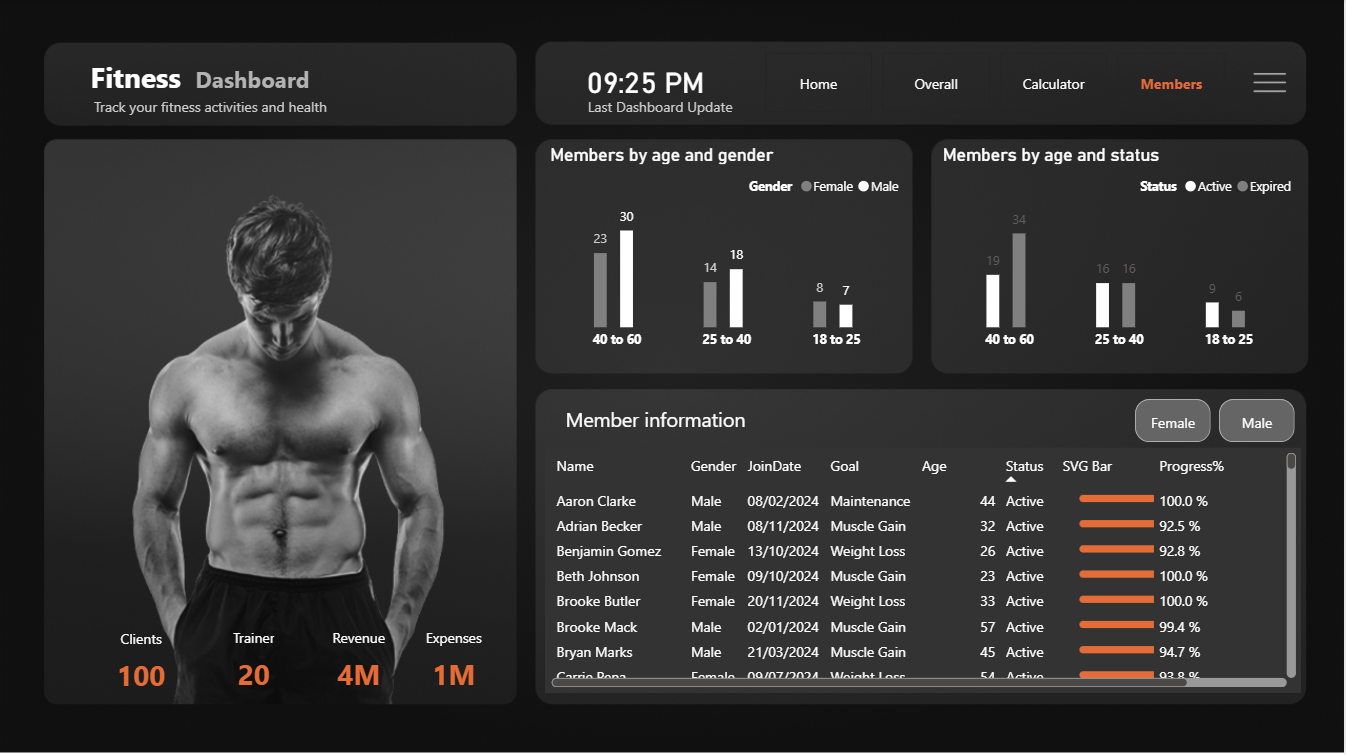

This screenshot's page, from the dashboard's own definition file:
{"tool":"powerbi","page":{"name":"Members","canvas":[1280,720],"ordinal":3},"visuals":[{"type":"pageNavigator","box":[728.6,51.2,440.5,57.1],"z":0},{"type":"card","fields":{"Values":["_measures.Last Refresh"]},"box":[502.4,36.6,225.6,82.9],"z":1000},{"type":"textbox","box":[554.9,87.8,248.8,40.2],"z":2000},{"type":"textbox","box":[167.1,57.3,140.2,41.5],"z":3000},{"type":"textbox","box":[67.1,51.2,131.7,53.7],"z":4000},{"type":"textbox","box":[84.1,87.8,248.8,40.2],"z":5000},{"type":"image","box":[1181,56,58.3,48.8],"z":6000},{"type":"tableEx","fields":{"Values":["Users.UserName","Users.Gender","Users.JoinDate","Users.Goal","Users.Age","Users.Status","_measures.SVG_BarChart","_measures.Progress Percent Display","Sum(Users.BMI)"]},"box":[519,427.4,720.2,233.3],"z":7000},{"type":"advancedSlicerVisual","fields":{"Values":["Users.Gender"]},"box":[1076.2,376.2,163.1,51.2],"z":8000},{"type":"textbox","box":[519,373.8,226.2,53.6],"z":9000},{"type":"cardVisual","fields":{"Data":["_measures.Clients"]},"box":[84.5,583.3,100,79.8],"z":10000},{"type":"cardVisual","fields":{"Data":["Count(Users.Trainer Name)"]},"box":[191.7,582.1,100,79.8],"z":11000},{"type":"cardVisual","fields":{"Data":["_measures.Revenue"]},"box":[291.6,582.3,100.1,80.8],"z":12000},{"type":"cardVisual","fields":{"Data":["_measures.Expenses"]},"box":[382.1,582.1,100,79.8],"z":13000},{"type":"clusteredColumnChart","title":"Members by age and gender","fields":{"Category":["Users.Age Category"],"Series":["Users.Gender"],"Y":["CountNonNull(Users.UserID)"]},"box":[519,138.1,346.4,204.8],"z":14000},{"type":"clusteredColumnChart","title":"Members by age and status","fields":{"Category":["Users.Age Category"],"Y":["CountNonNull(Users.UserID)"],"Series":["Users.Status"]},"box":[892.9,138.1,346.4,204.8],"z":14001}]}

Visuals, with their boxes in screenshot pixels (x1, y1, x2, y2), scaled from the page's 1280x720 canvas onto the 1346x755 screenshot:
pageNavigator: bbox=(766, 54, 1229, 114)
card - _measures.Last Refresh: bbox=(528, 38, 766, 125)
textbox: bbox=(584, 92, 845, 134)
textbox: bbox=(176, 60, 323, 104)
textbox: bbox=(71, 54, 209, 110)
textbox: bbox=(88, 92, 350, 134)
image: bbox=(1242, 59, 1303, 110)
tableEx - Users.UserName x Users.Gender: bbox=(546, 448, 1303, 693)
advancedSlicerVisual - Users.Gender: bbox=(1132, 394, 1303, 448)
textbox: bbox=(546, 392, 784, 448)
cardVisual - _measures.Clients: bbox=(89, 612, 194, 695)
cardVisual - Count(Users.Trainer Name): bbox=(202, 610, 307, 694)
cardVisual - _measures.Revenue: bbox=(307, 611, 412, 695)
cardVisual - _measures.Expenses: bbox=(402, 610, 507, 694)
"Members by age and gender" clusteredColumnChart: bbox=(546, 145, 910, 360)
"Members by age and status" clusteredColumnChart: bbox=(939, 145, 1303, 360)
